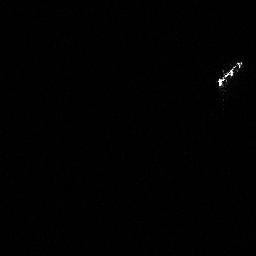ship: (215, 58, 245, 90)
